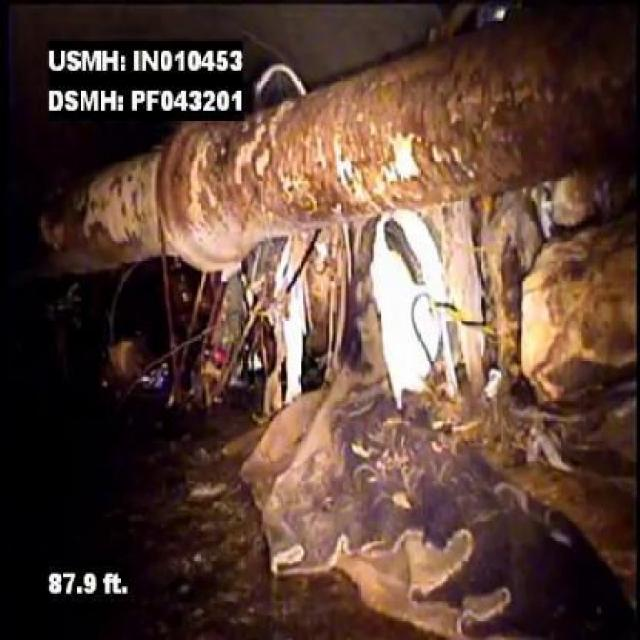Obstacle: (264, 229, 638, 529)
Utility intrusion: (280, 2, 638, 225)
